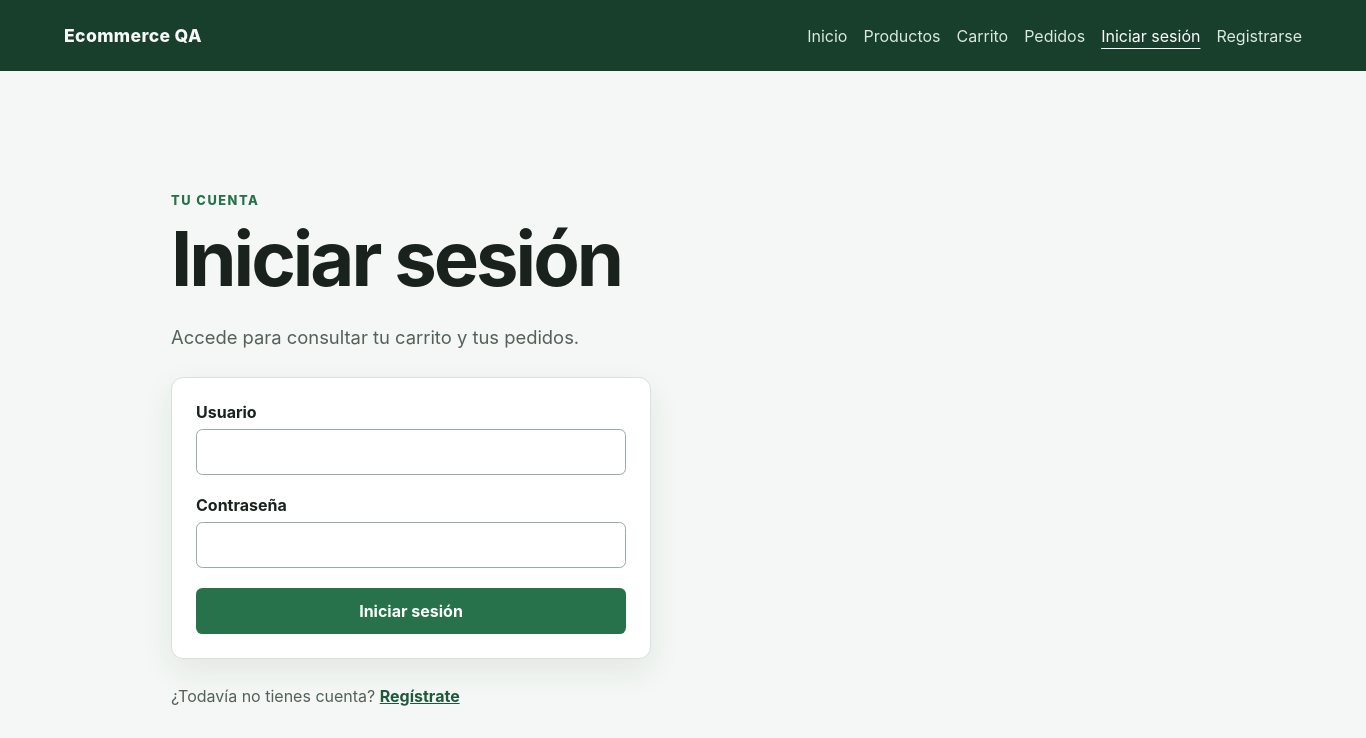
Test: flujo de autenticación › inicia sesión y redirige a productos
Step 1. Type "santi" into the field labelled "Usuario" → (411,452), box [196, 429, 626, 475]
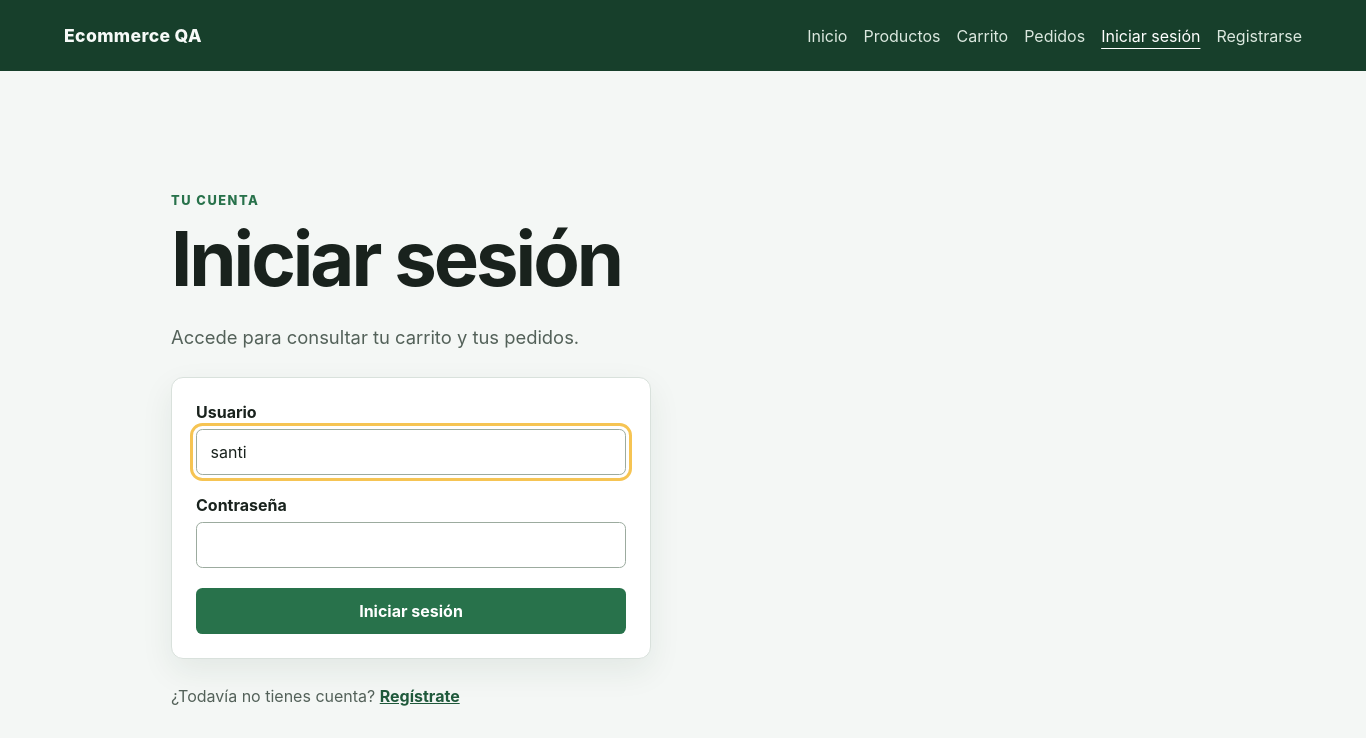
Step 2. Type "ClaveSegura!2026" into the password field labelled "Contraseña" → (411,545), box [196, 522, 626, 568]
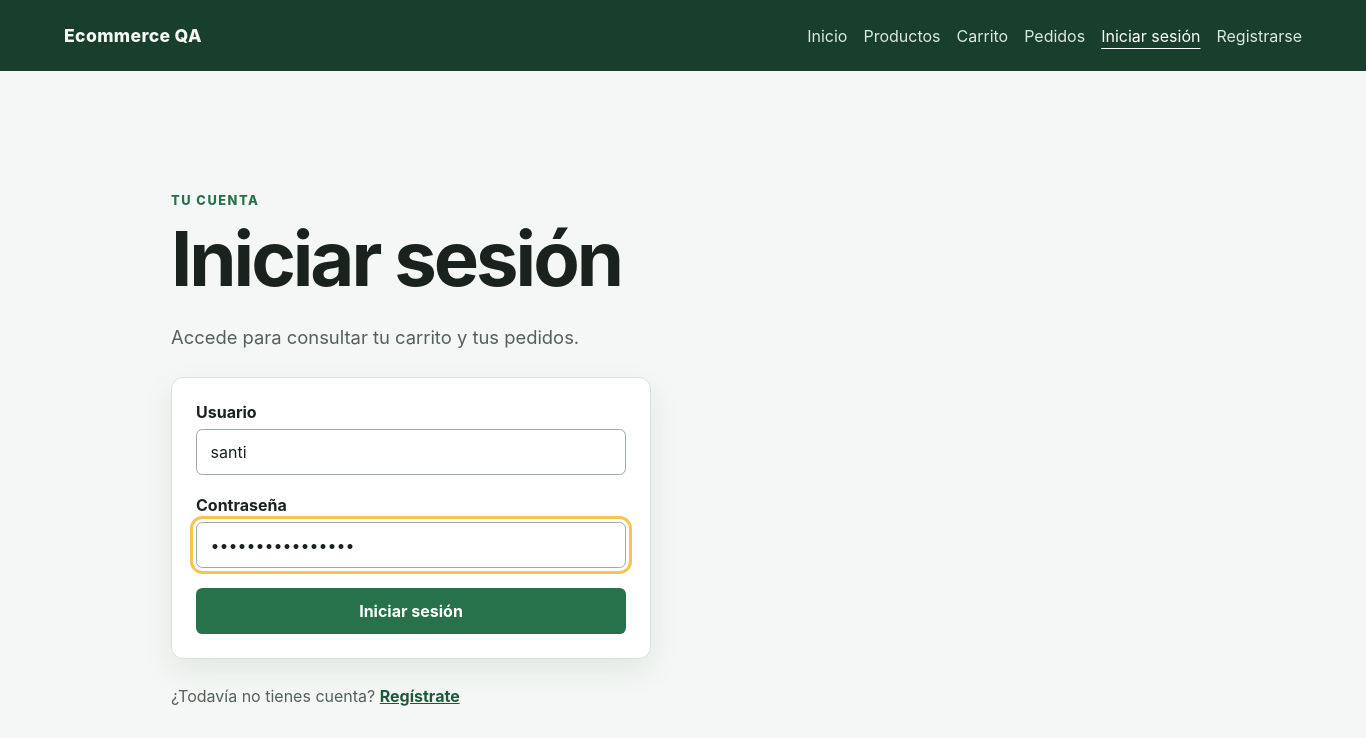
Step 3. Click the button "Iniciar sesión" → (411,611), box [196, 588, 626, 634]
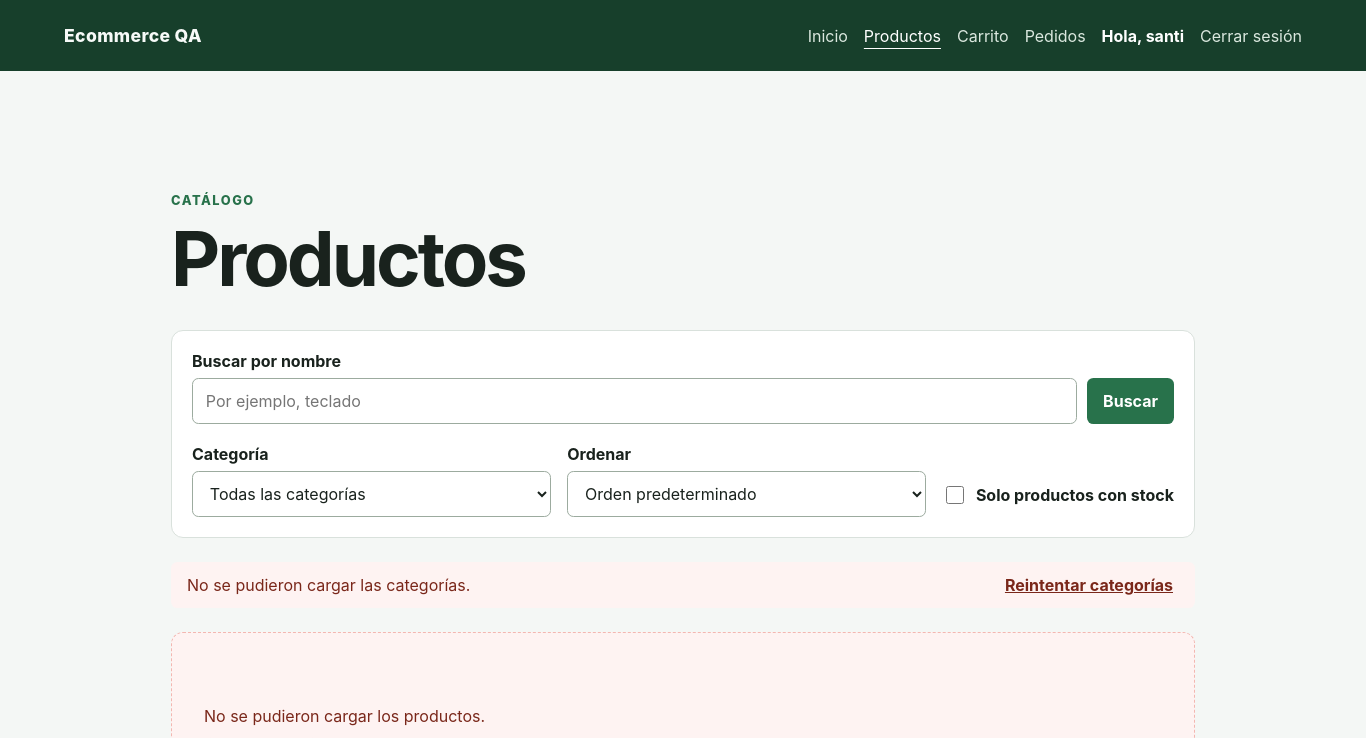
Now the heading "Productos" is shown, box [171, 220, 525, 298]
